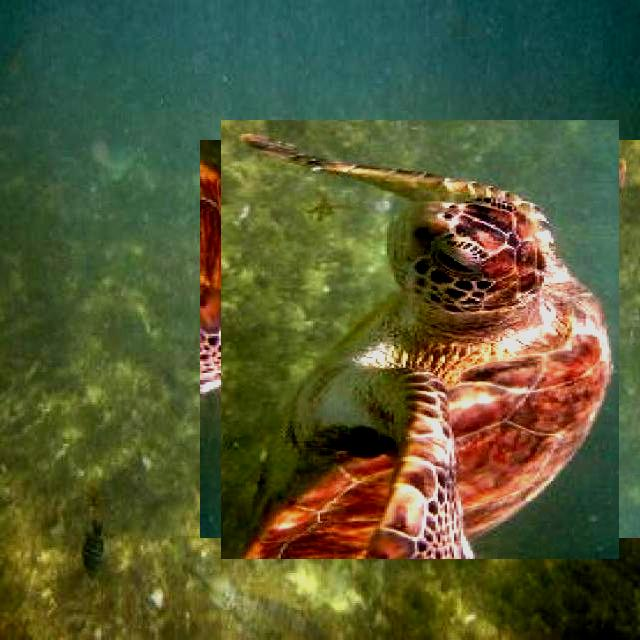Sea turtle: (210, 130, 630, 548)
